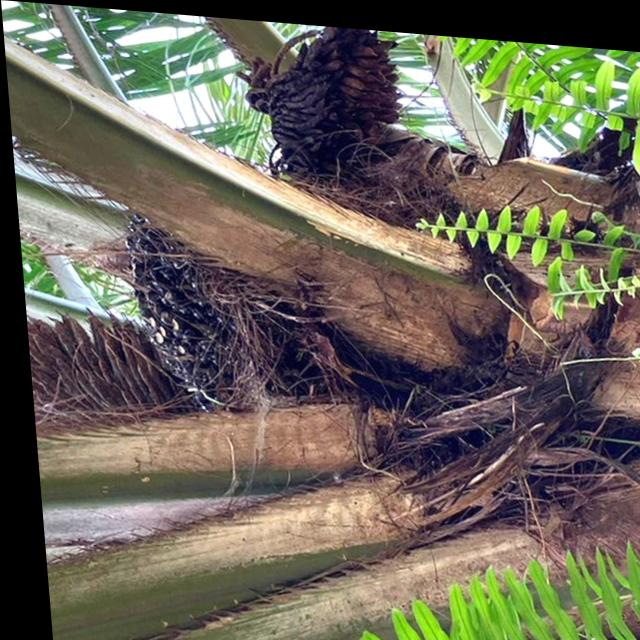unripe: (116, 211, 304, 409)
